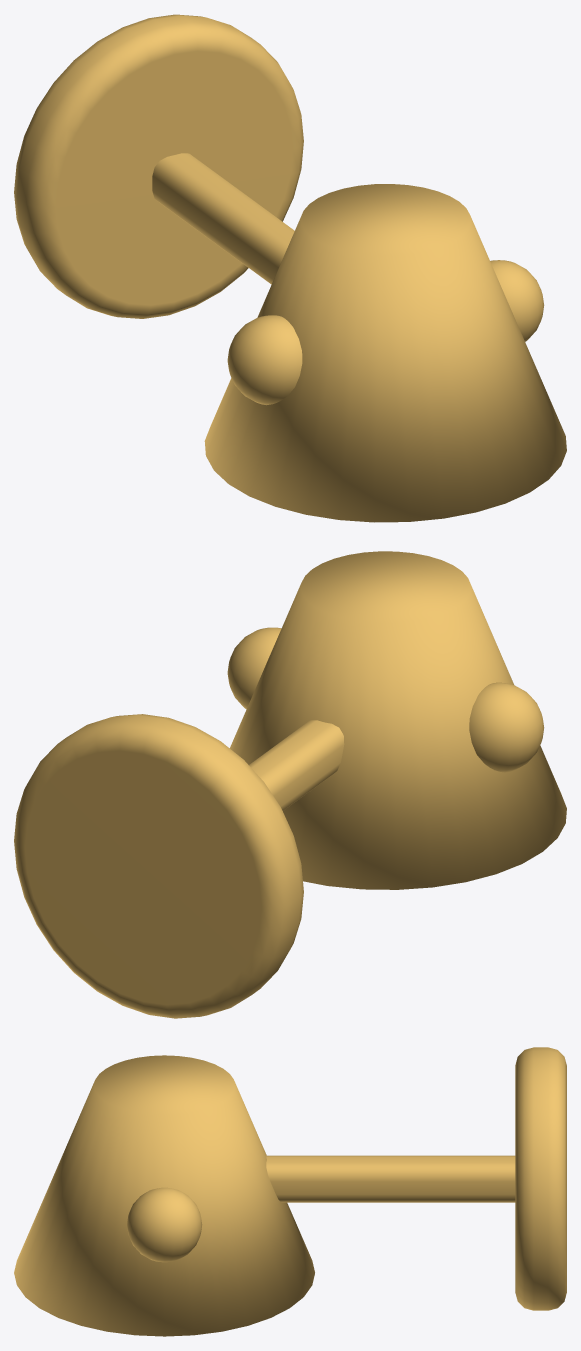
File: wallSpotBellBrass.glb
3 views of the same model, one above another, from view 1: azimuth 30°, elevation 25°; view 2: azimuth 150°, elevation 25°; view 3: azimuth 270°, elevation 25° (orthographic). The views are drawn at different scales.
Visible parts, largest first — view 1: Bell spotlight shade, Wall backplate, Spotlight support arm, Swivel joint, Swivel joint.001; view 2: Bell spotlight shade, Wall backplate, Swivel joint, Spotlight support arm, Swivel joint.001; view 3: Bell spotlight shade, Wall backplate, Spotlight support arm, Swivel joint.001.
Part boxes in pixels (box(x1,y1,x2,y2)): Bell spotlight shade: box(204, 184, 566, 522); Wall backplate: box(14, 14, 303, 318); Spotlight support arm: box(152, 153, 294, 284); Swivel joint: box(227, 315, 302, 405); Swivel joint.001: box(490, 260, 544, 341); Bell spotlight shade: box(229, 551, 566, 889); Wall backplate: box(14, 714, 303, 1018); Swivel joint: box(469, 682, 544, 772); Spotlight support arm: box(249, 720, 344, 810); Swivel joint.001: box(227, 627, 281, 709); Bell spotlight shade: box(14, 1055, 314, 1336); Wall backplate: box(515, 1047, 566, 1310); Spotlight support arm: box(266, 1155, 515, 1202); Swivel joint.001: box(127, 1187, 202, 1262).
Bounding box in the file's own units: 0.32 × 0.28 × 0.5875.
